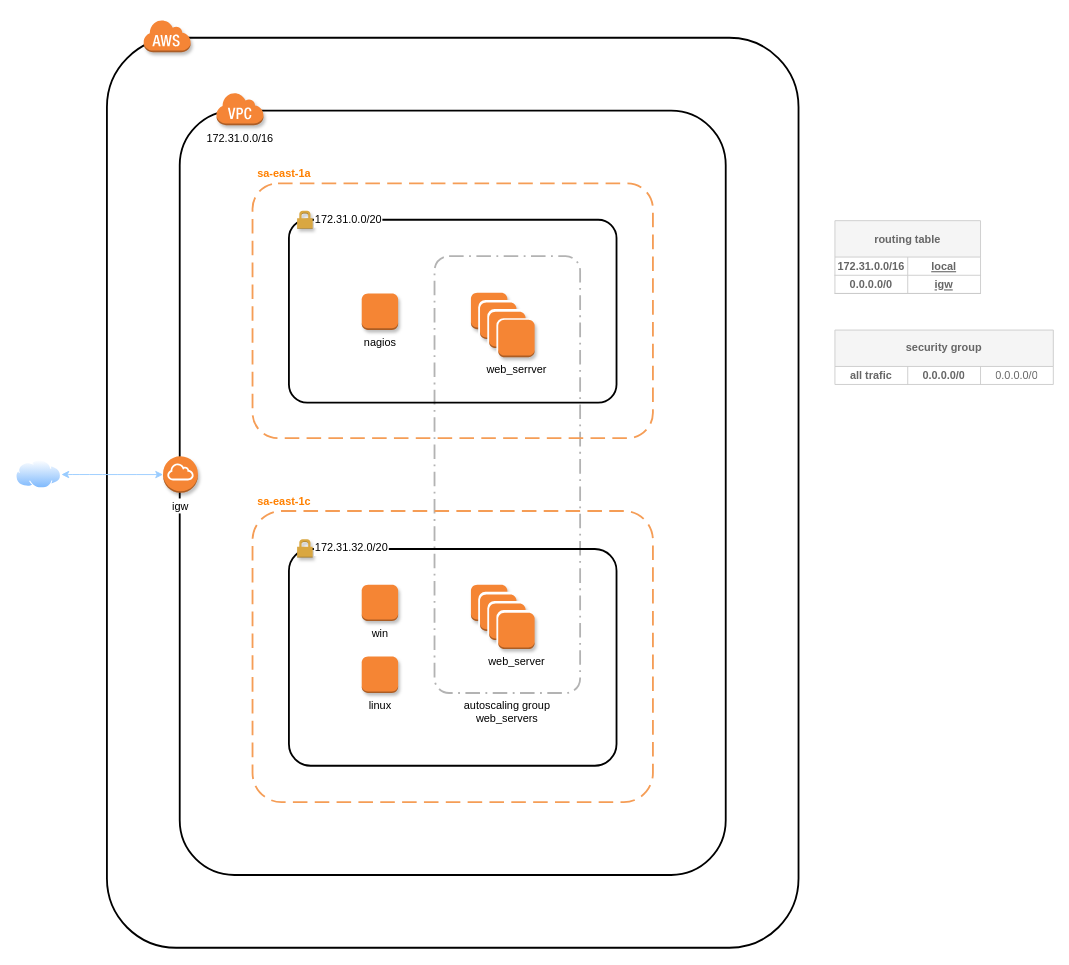
Image size: 1069x965. Some labels were removed from this diagram. Here are the shapes that lost their labels. From the top down, the centre of each, then its label:
the point at 167,37: sa-east-1
the point at 38,474: Internet
